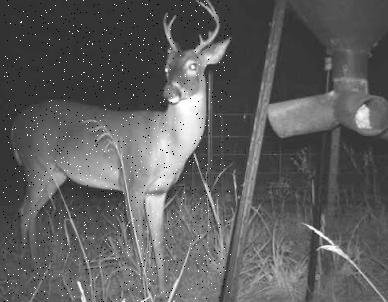Deer: (3, 0, 231, 302)
